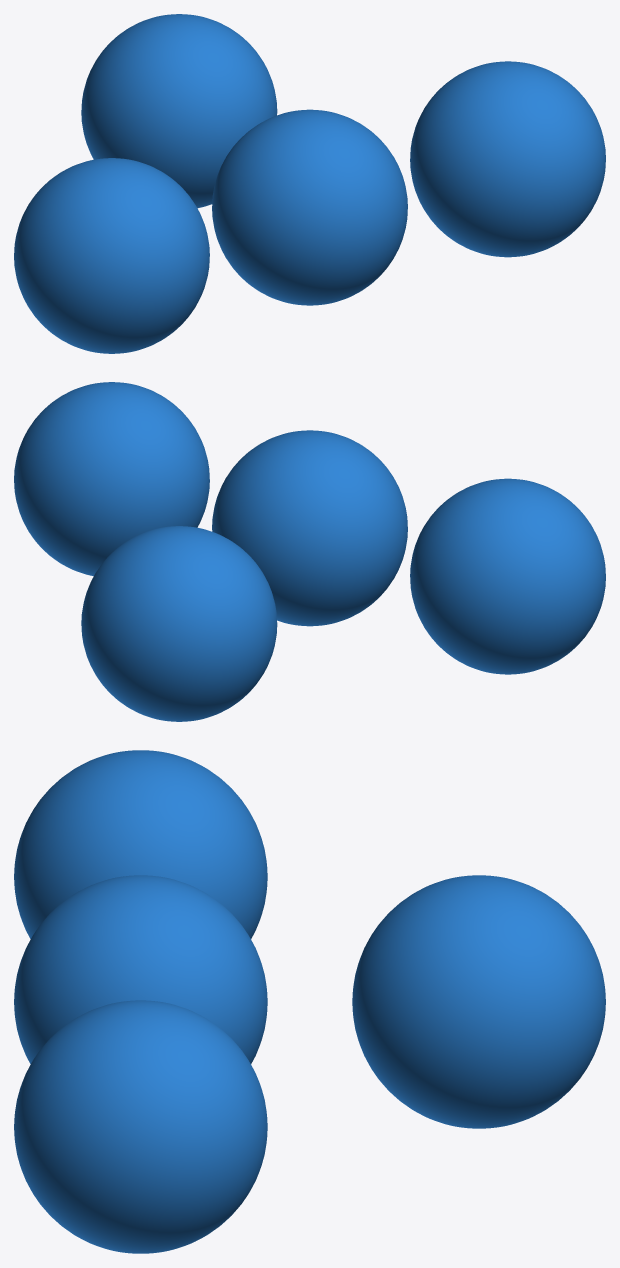
The model's file is MaterialSpheres.glb.
3 renders of one model, top to bottom at view 1: azimuth 30°, elevation 25°; view 2: azimuth 150°, elevation 25°; view 3: azimuth 270°, elevation 25°, orthographic. The views are drawn at different scales.
Visible parts, largest first — view 1: Золото, Шорстка мідь, Синя кераміка, Дзеркальна кераміка; view 2: Синя кераміка, Дзеркальна кераміка, Золото, Шорстка мідь; view 3: Шорстка мідь, Дзеркальна кераміка, Синя кераміка, Золото.
Part boxes in pixels (box(x1,y1,x2,y2)): Золото: box(212, 109, 407, 305); Шорстка мідь: box(410, 61, 605, 257); Синя кераміка: box(14, 158, 209, 353); Дзеркальна кераміка: box(81, 14, 277, 208); Синя кераміка: box(410, 478, 605, 674); Дзеркальна кераміка: box(81, 526, 277, 721); Золото: box(212, 430, 407, 626); Шорстка мідь: box(14, 382, 209, 576); Шорстка мідь: box(14, 1000, 267, 1253); Дзеркальна кераміка: box(352, 875, 605, 1128); Синя кераміка: box(14, 750, 267, 938); Золото: box(14, 875, 267, 1064).
Size of the model in its own units: 6 by 1.8 by 4.2.
